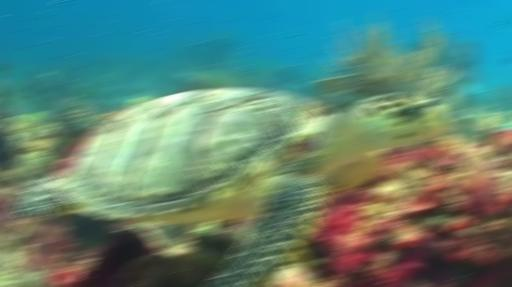Fish: (12, 90, 447, 286)
